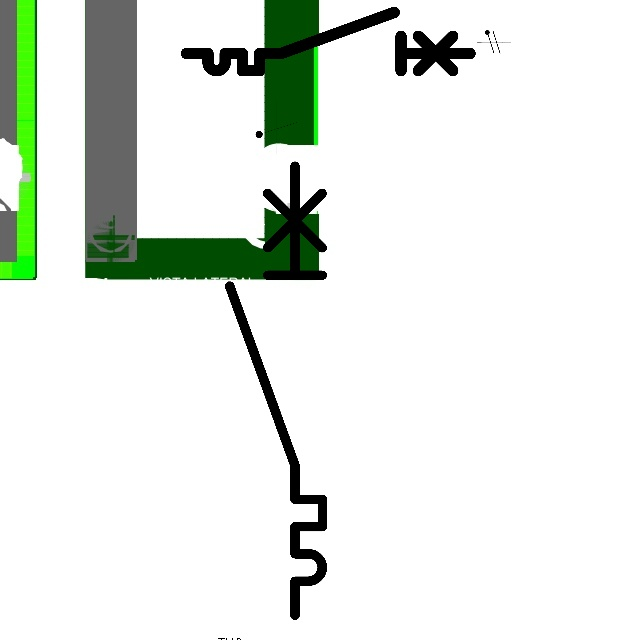interruptor_termomagnetico: (218, 154, 334, 627), (179, 5, 477, 78)
